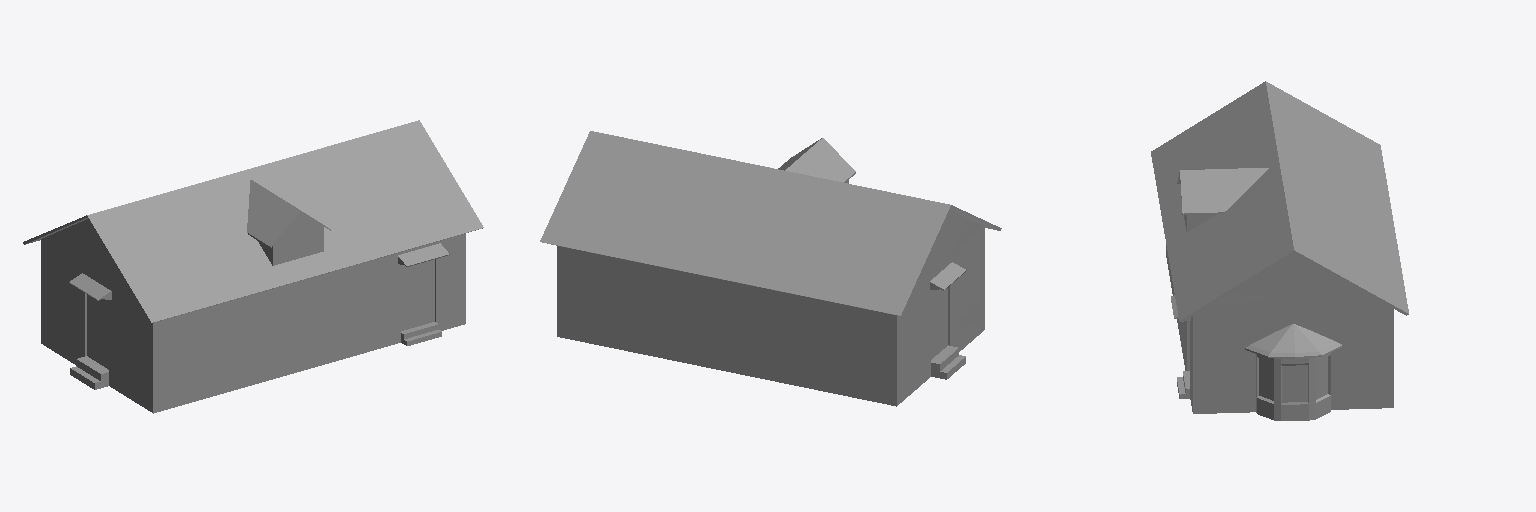
Rendered from cottage_obj.obj.
3 views of the same model, side by side, from view 1: azimuth 30°, elevation 25°; view 2: azimuth 150°, elevation 25°; view 3: azimuth 270°, elevation 25° (orthographic).
Visible parts, largest first — view 1: Cube_Cube.002; view 2: Cube_Cube.002; view 3: Cube_Cube.002.
Boxes of the visible parts, box(x1,y1,x2,y2) form: Cube_Cube.002: box(23, 120, 483, 413); Cube_Cube.002: box(540, 131, 1001, 406); Cube_Cube.002: box(1151, 81, 1408, 420).
Size of the model in its own units: 33.93 by 15.74 by 20.74.